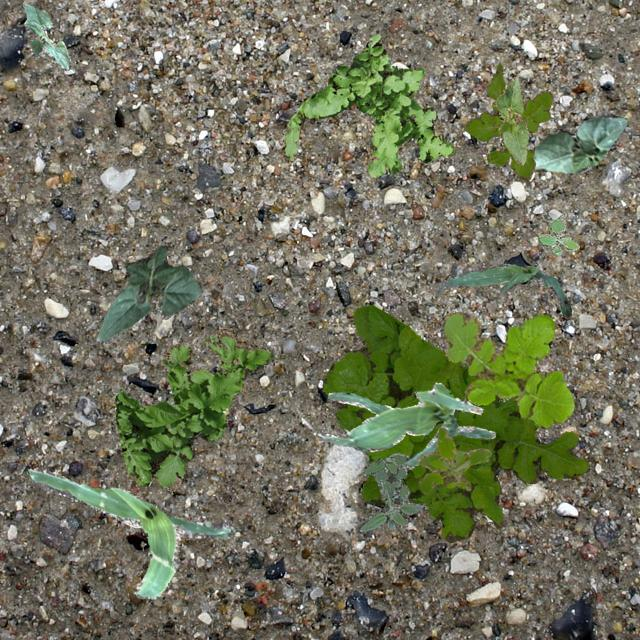crop: (28, 466, 232, 598), (316, 382, 494, 464), (96, 244, 202, 344), (436, 262, 570, 316), (532, 116, 628, 172), (23, 1, 69, 70), (493, 75, 528, 164)
weed: (322, 302, 588, 540), (115, 327, 272, 490), (278, 34, 454, 175), (442, 310, 574, 428), (462, 62, 552, 178), (356, 452, 424, 532), (416, 426, 491, 492), (538, 214, 578, 254)
